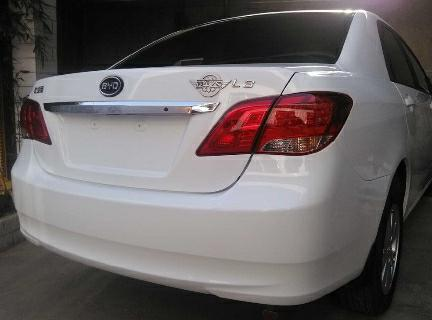比亚迪-思锐: (4, 4, 430, 317)
